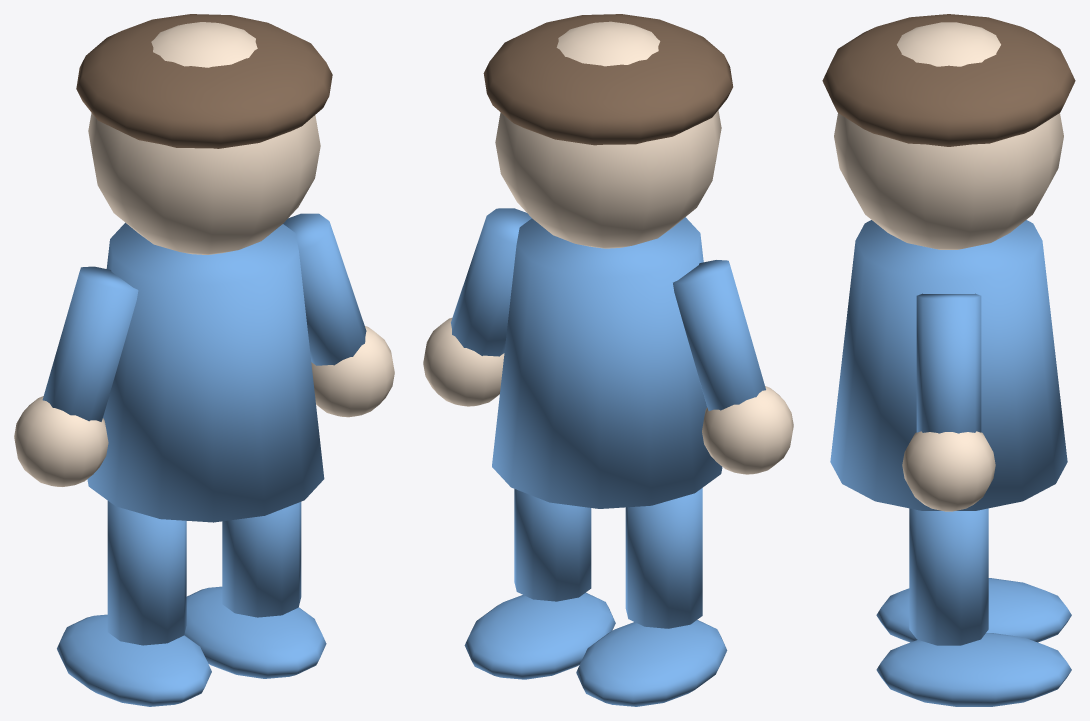
Rendered from mii_tenant.glb.
The picture shows the model from 3 angles, left to right: view 1: azimuth 30°, elevation 25°; view 2: azimuth 150°, elevation 25°; view 3: azimuth 270°, elevation 25°; orthographic projection. The views are drawn at different scales.
Visible parts, largest first — view 1: Torso, Head, Hair, Leg_L, Arm_L, Foot_L, Foot_R, Leg_R, Arm_R, Hand_L, Hand_R; view 2: Torso, Head, Hair, Leg_L, Foot_L, Foot_R, Arm_L, Leg_R, Arm_R, Hand_L, Hand_R; view 3: Torso, Head, Hair, Foot_R, Leg_R, Arm_R, Hand_R, Foot_L.
Part boxes in pixels (x1=…): Torso: x1=87, y1=222, x2=324, y2=522; Head: x1=88, y1=22, x2=320, y2=254; Hair: x1=76, y1=14, x2=332, y2=148; Leg_L: x1=107, y1=501, x2=186, y2=645; Arm_L: x1=42, y1=266, x2=138, y2=421; Foot_L: x1=57, y1=614, x2=211, y2=706; Foot_R: x1=184, y1=586, x2=326, y2=678; Leg_R: x1=222, y1=502, x2=301, y2=617; Arm_R: x1=283, y1=213, x2=366, y2=365; Hand_L: x1=14, y1=396, x2=108, y2=486; Hand_R: x1=311, y1=326, x2=394, y2=417; Torso: x1=492, y1=217, x2=722, y2=508; Head: x1=495, y1=21, x2=721, y2=248; Hair: x1=483, y1=14, x2=733, y2=145; Leg_L: x1=625, y1=488, x2=702, y2=628; Foot_L: x1=576, y1=620, x2=727, y2=706; Foot_R: x1=464, y1=592, x2=615, y2=679; Arm_L: x1=673, y1=260, x2=765, y2=411; Leg_R: x1=514, y1=489, x2=591, y2=601; Arm_R: x1=451, y1=208, x2=531, y2=356; Hand_L: x1=702, y1=386, x2=793, y2=474; Hand_R: x1=423, y1=318, x2=504, y2=406; Torso: x1=830, y1=220, x2=1067, y2=510; Head: x1=834, y1=22, x2=1063, y2=249; Hair: x1=822, y1=14, x2=1075, y2=146; Foot_R: x1=876, y1=633, x2=1071, y2=706; Leg_R: x1=909, y1=508, x2=988, y2=645; Arm_R: x1=916, y1=293, x2=981, y2=433; Hand_R: x1=902, y1=431, x2=995, y2=511; Foot_L: x1=876, y1=578, x2=1071, y2=642.
Bounding box in the file's own units: 0.5767 × 0.975 × 0.352.
